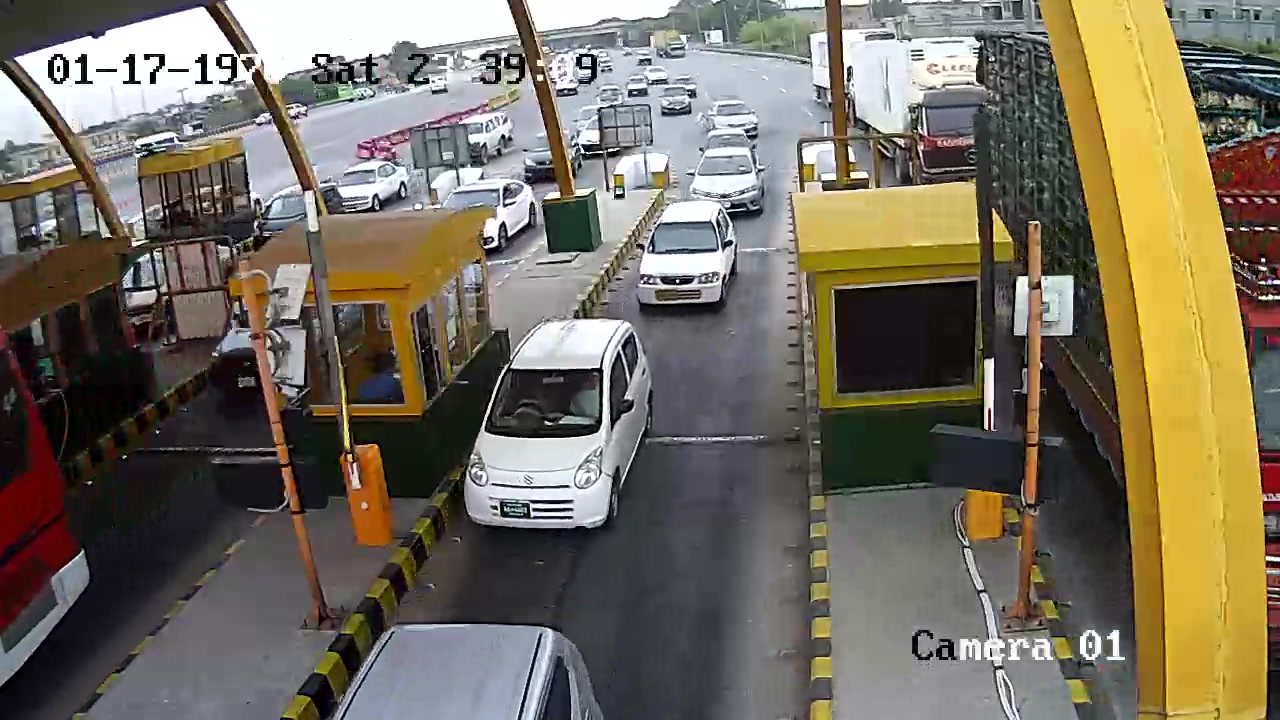F1: (452, 315, 675, 555)
